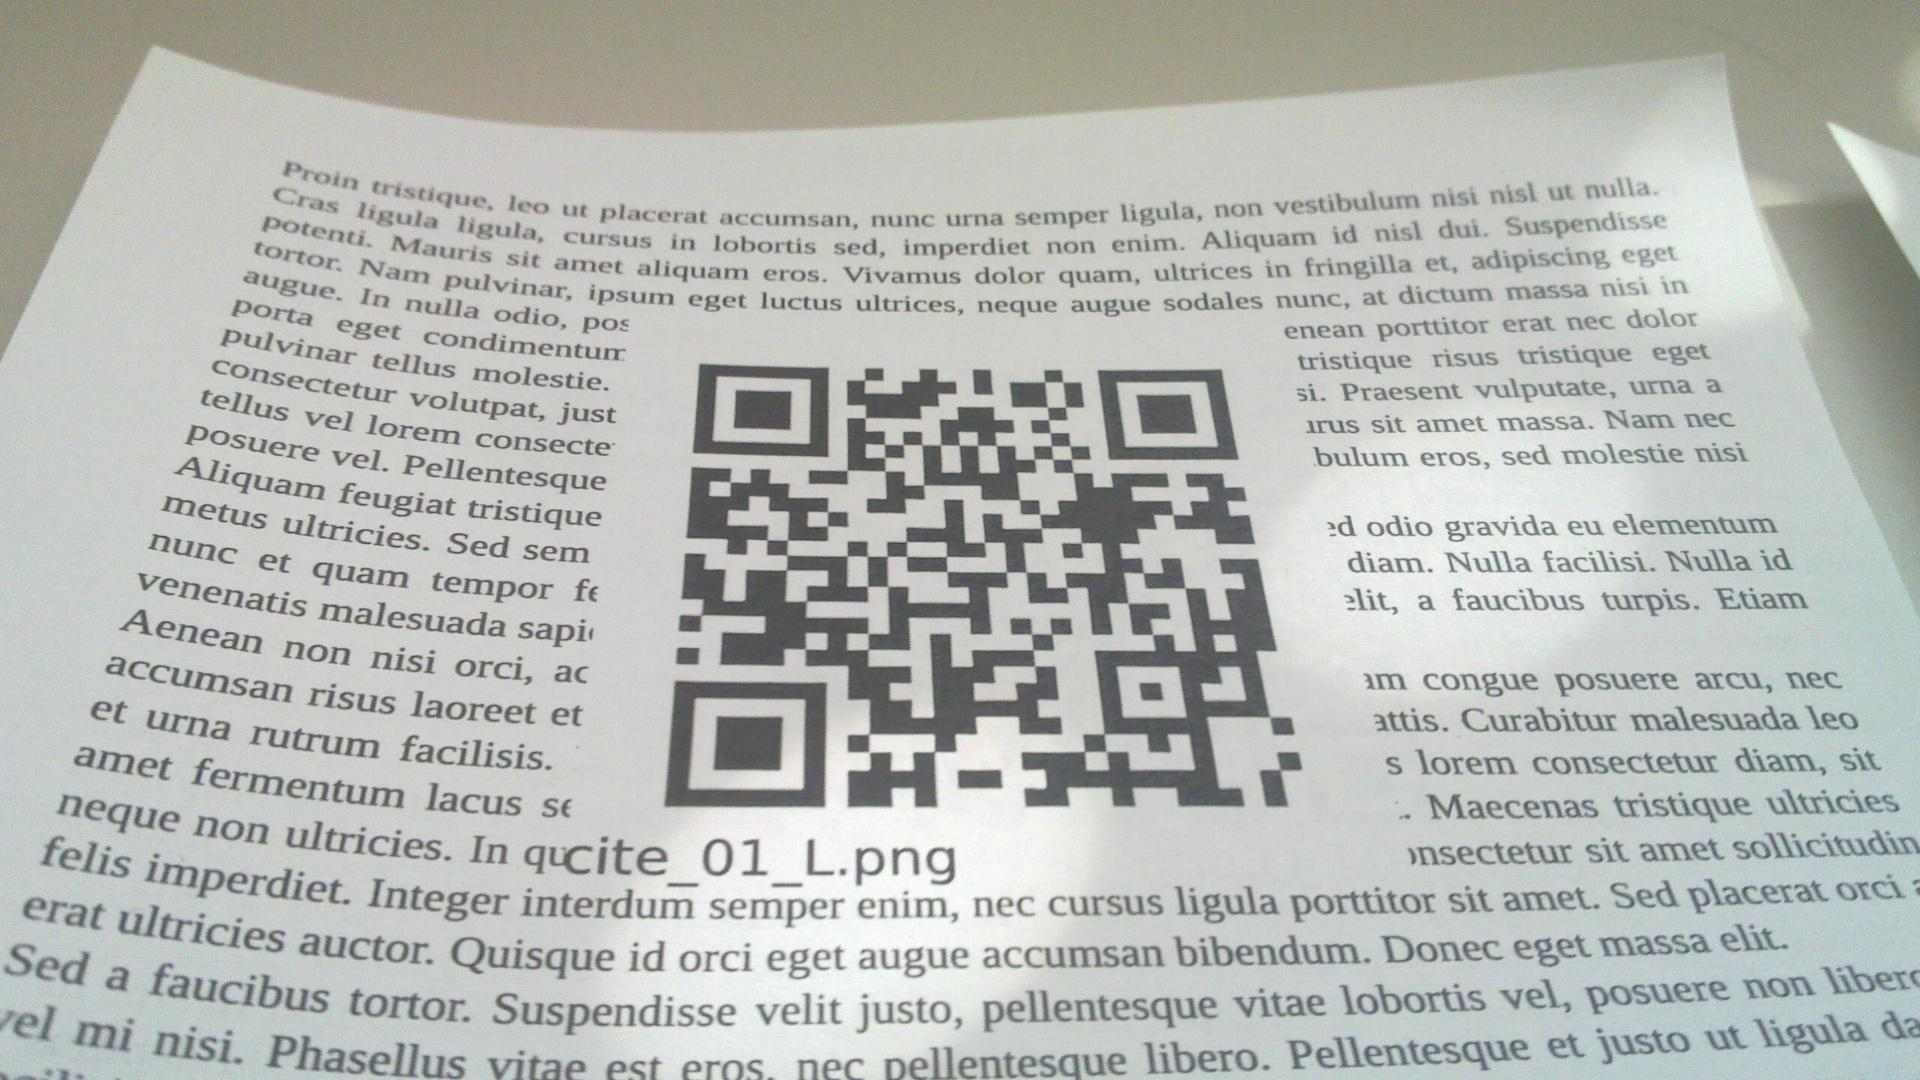Finder pattern: (662, 673, 833, 815), (684, 352, 841, 464), (1091, 363, 1249, 467)
